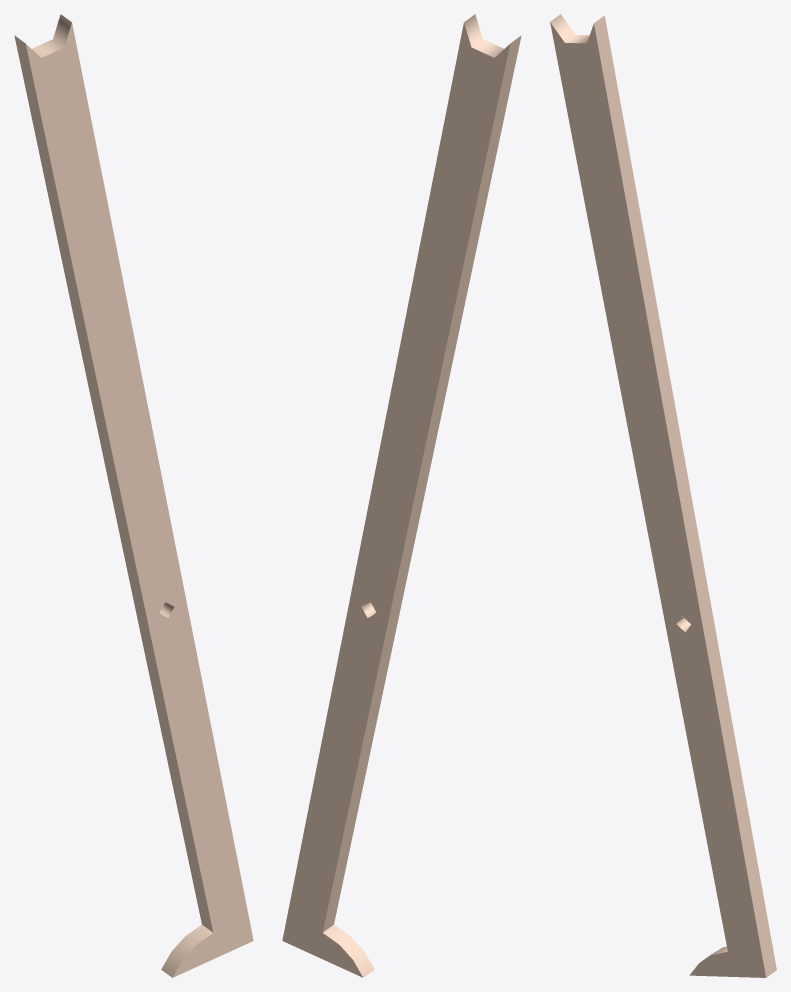
File: Pied detente Roue d arret.obj
3 renders of one model, left to right at view 1: azimuth 30°, elevation 25°; view 2: azimuth 150°, elevation 25°; view 3: azimuth 330°, elevation 25°, orthographic. The views are drawn at different scales.
Parts seen in each view (by area): view 1: Face_6, Face_4, Face_3, Face_8; view 2: Face_5, Face_4, Face_3, Face_8; view 3: Face_6, Face_1, Face_8.
Boxes of the visible parts, x1=… form: Face_6: x1=26, y1=23, x2=253, y2=977; Face_4: x1=14, y1=35, x2=213, y2=932; Face_3: x1=161, y1=925, x2=212, y2=977; Face_8: x1=32, y1=14, x2=71, y2=57; Face_5: x1=282, y1=23, x2=509, y2=977; Face_4: x1=322, y1=35, x2=521, y2=932; Face_3: x1=323, y1=925, x2=374, y2=977; Face_8: x1=464, y1=14, x2=503, y2=57; Face_6: x1=550, y1=22, x2=765, y2=977; Face_1: x1=594, y1=15, x2=776, y2=977; Face_8: x1=550, y1=14, x2=589, y2=43.
Bounding box in the file's own units: 0.0289 × 0.1188 × 0.0025.
